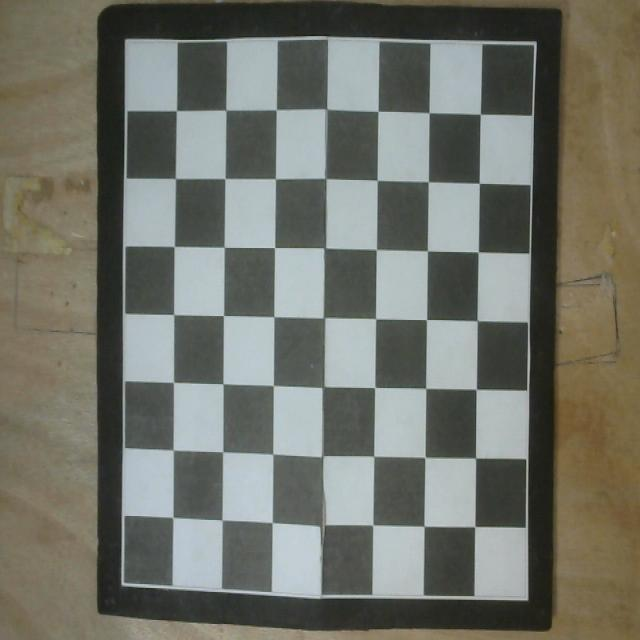chess-table-corners: (532, 38, 538, 48), (119, 580, 125, 588), (524, 596, 530, 604), (122, 36, 128, 44)
